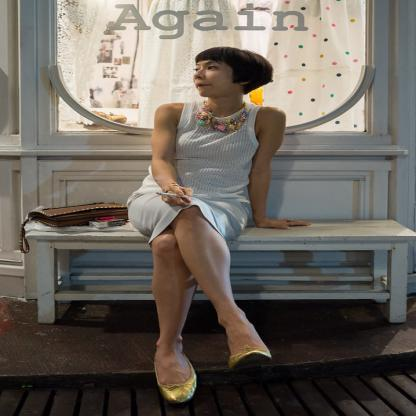smoking: (156, 192, 188, 197)
